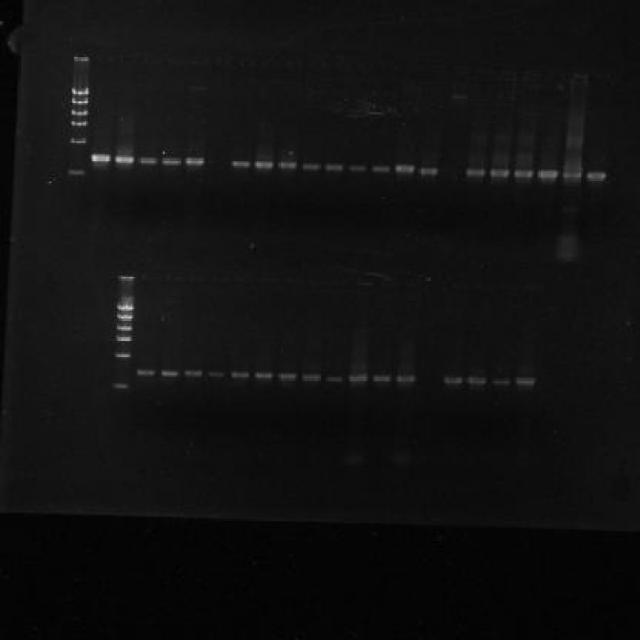B: (184, 156, 207, 167), (90, 152, 112, 163), (230, 159, 252, 170), (276, 160, 298, 171), (394, 163, 416, 174), (464, 167, 486, 178), (536, 169, 558, 180), (161, 156, 182, 167), (254, 160, 274, 171), (514, 169, 534, 180), (115, 154, 136, 164), (302, 162, 322, 172), (136, 157, 158, 166), (323, 163, 345, 172), (370, 164, 392, 173), (416, 167, 438, 176), (276, 372, 298, 381), (348, 164, 368, 173), (254, 371, 274, 380), (489, 170, 511, 178), (560, 172, 582, 180), (585, 172, 607, 180), (395, 375, 417, 383), (514, 377, 536, 385), (136, 368, 156, 376), (159, 369, 179, 377), (301, 374, 321, 382), (348, 374, 368, 382), (467, 376, 487, 384), (230, 371, 252, 378), (206, 370, 225, 378), (184, 369, 202, 377), (372, 374, 390, 382), (444, 376, 462, 384), (492, 380, 510, 386), (327, 376, 342, 382)
L: (61, 49, 618, 91), (106, 267, 549, 296)
M: (67, 73, 93, 181), (111, 293, 137, 393)
P: (113, 322, 133, 332), (114, 312, 134, 321), (66, 168, 86, 177), (69, 108, 89, 117), (69, 96, 89, 105), (114, 302, 136, 310), (68, 136, 87, 144), (69, 87, 88, 95), (114, 334, 132, 342), (112, 351, 132, 358), (112, 382, 130, 389), (69, 121, 88, 127)
Pc: (116, 272, 136, 286), (498, 280, 520, 292), (403, 63, 425, 74), (452, 64, 472, 76), (380, 62, 400, 72), (430, 63, 448, 74), (500, 67, 517, 78), (259, 274, 279, 283), (190, 56, 208, 66), (332, 61, 352, 70), (524, 68, 542, 78), (283, 274, 302, 283), (475, 67, 493, 76), (140, 272, 160, 280), (306, 277, 326, 285), (473, 282, 493, 290), (260, 60, 280, 68), (570, 72, 590, 80), (593, 72, 613, 80), (212, 274, 231, 282), (166, 56, 185, 64), (308, 60, 327, 68), (164, 272, 182, 280), (188, 273, 206, 281), (332, 278, 350, 286), (356, 278, 374, 286), (402, 279, 420, 287), (450, 280, 468, 288), (118, 54, 136, 62), (142, 55, 160, 63), (214, 58, 232, 66), (548, 70, 566, 78), (240, 58, 254, 68), (236, 274, 253, 282), (379, 278, 396, 286), (524, 282, 541, 290), (73, 54, 90, 62), (356, 62, 373, 70), (96, 54, 112, 62), (286, 60, 302, 68)
